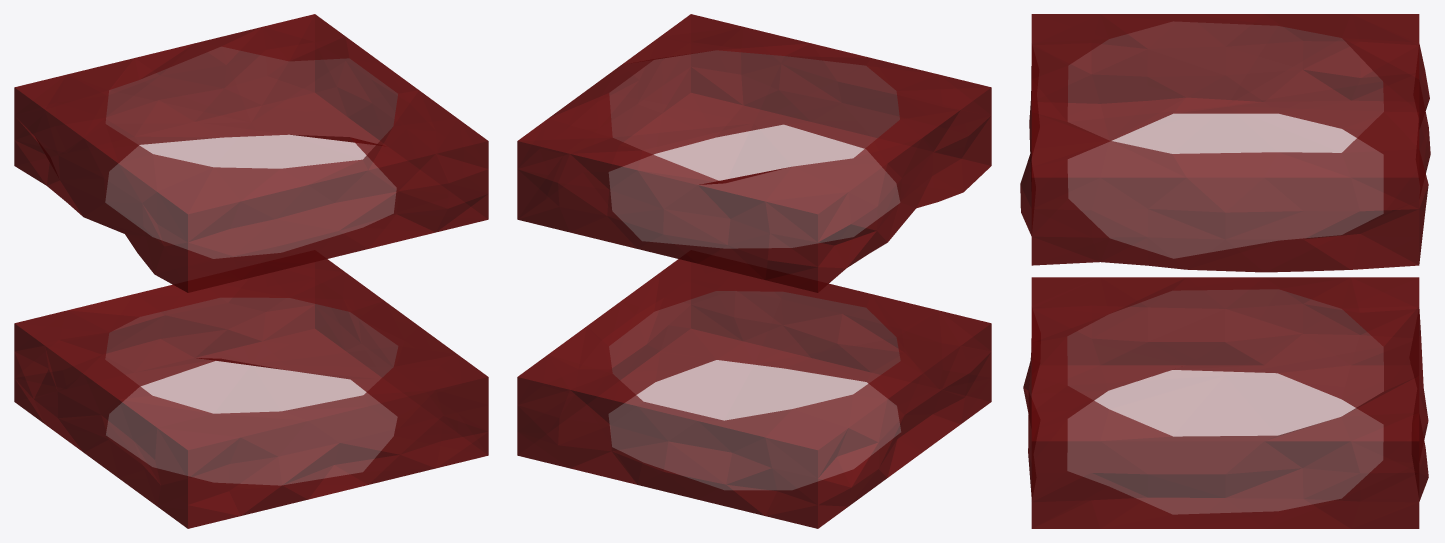
File: converter_base.sapphire.obj
3 renders of one model, left to right at view 1: azimuth 30°, elevation 25°; view 2: azimuth 150°, elevation 25°; view 3: azimuth 270°, elevation 25°, orthographic. The views are drawn at different scales.
Parts seen in each view (by area): view 1: Base_Cube.001; view 2: Base_Cube.001; view 3: Base_Cube.001.
Part boxes in pixels (left/top/right/bottom): Base_Cube.001: left=14, top=14, right=488, bottom=528; Base_Cube.001: left=517, top=14, right=991, bottom=528; Base_Cube.001: left=1020, top=14, right=1430, bottom=528.
Size of the model in its own units: 1.05 by 1.03 by 1.06.
